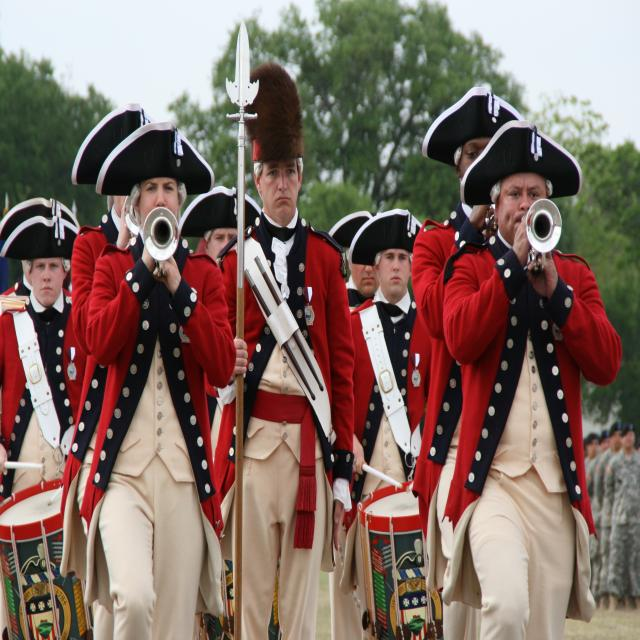body: (435, 115, 628, 640), (200, 57, 361, 640), (73, 116, 240, 640), (410, 81, 522, 638), (57, 95, 157, 638), (0, 202, 97, 640), (337, 207, 432, 639), (0, 194, 90, 505), (324, 207, 382, 640), (601, 421, 640, 618), (177, 184, 263, 267), (594, 420, 624, 609), (586, 429, 610, 608), (582, 432, 602, 475), (633, 428, 640, 459), (582, 436, 588, 461)
